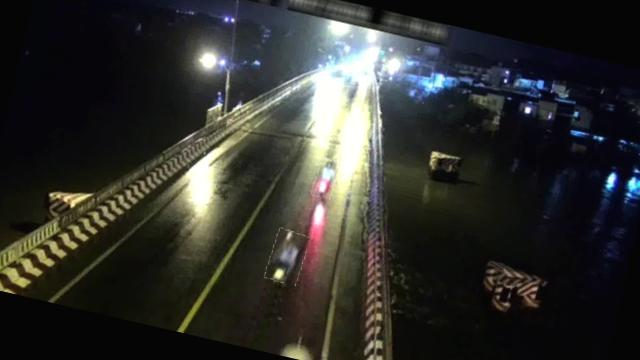Bike: (264, 228, 309, 286), (312, 158, 341, 201)
